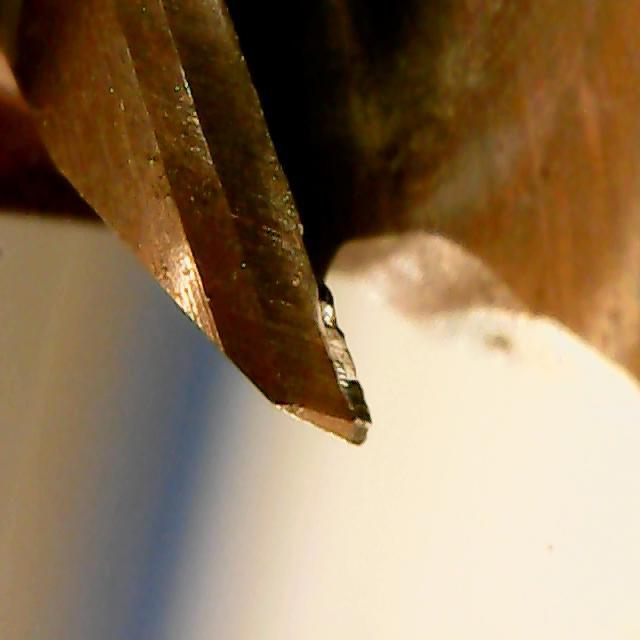Tool-wear-class-1: (250, 203, 399, 467)
